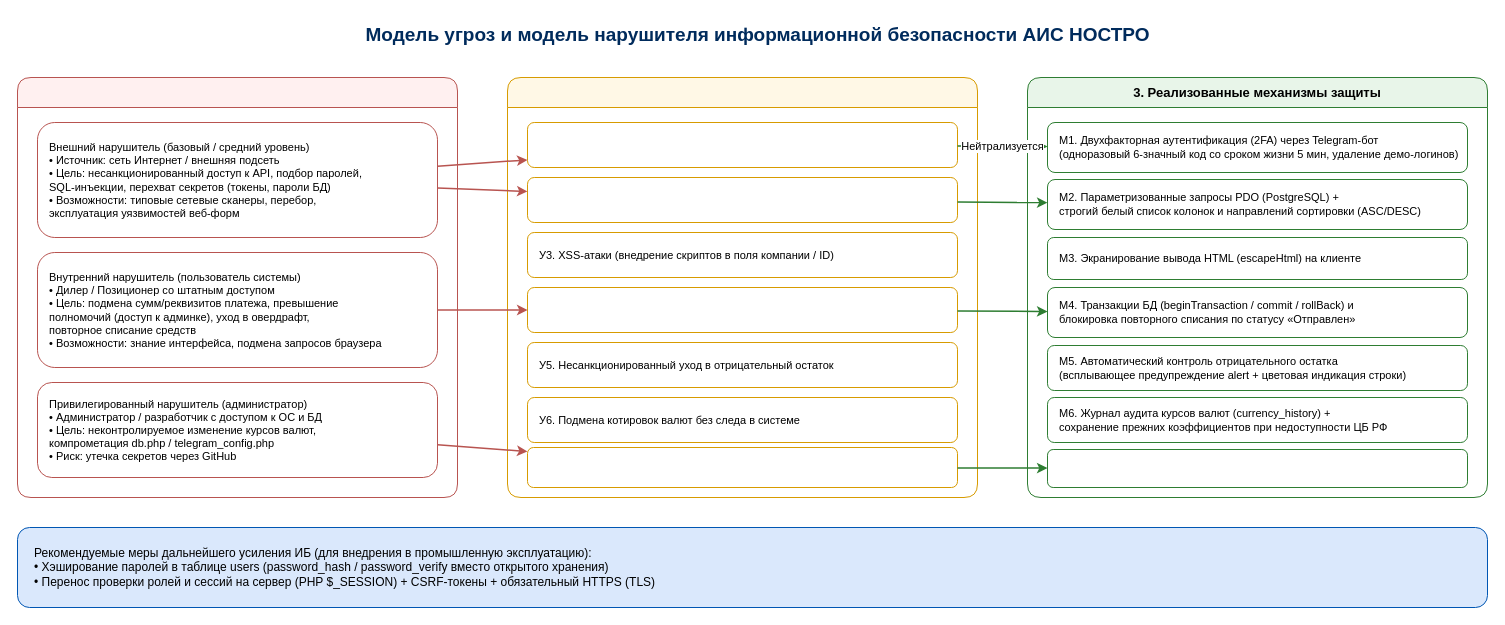
This 1505x625 diagram has some shape labels left out. The box of each missing label's shape, as (x1, y1, x2, y2) in pixels:
1. Модель нарушителя (категории и возможности): (16, 76, 458, 498)
2. Актуальные угрозы безопасности (УБИ): (506, 76, 978, 498)
М7. Исключение db.php и telegram_config.php через .gitignore: (1046, 448, 1468, 488)
У1. Компрометация учётной записи (подбор/кража пароля): (526, 122, 958, 168)
У2. SQL-инъекции через фильтры и сортировку в API: (526, 176, 958, 222)
У4. Нарушение целостности остатков / двойное списание: (526, 286, 958, 332)
У7. Утечка пароля БД и токена бота в открытый репозиторий: (526, 446, 958, 488)
